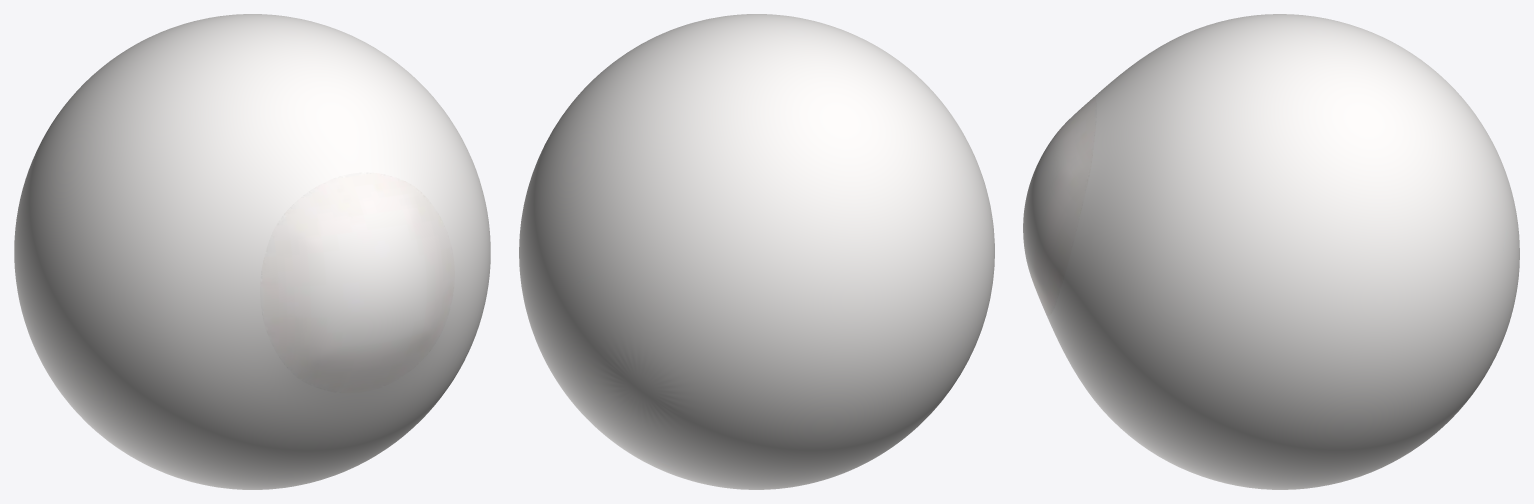
The model's file is eye.glb.
3 renders of one model, left to right at view 1: azimuth 30°, elevation 25°; view 2: azimuth 150°, elevation 25°; view 3: azimuth 270°, elevation 25°, orthographic.
Visible parts, largest first — view 1: Eye; view 2: Eye; view 3: Eye.
Boxes of the visible parts, x1,y1,x2,y2 form: Eye: (14,14,490,489); Eye: (519,14,994,489); Eye: (1023,14,1519,489).
Bounding box in the file's own units: 1.95 × 1.95 × 2.04.
Materials: 2 (2 with a texture image).
